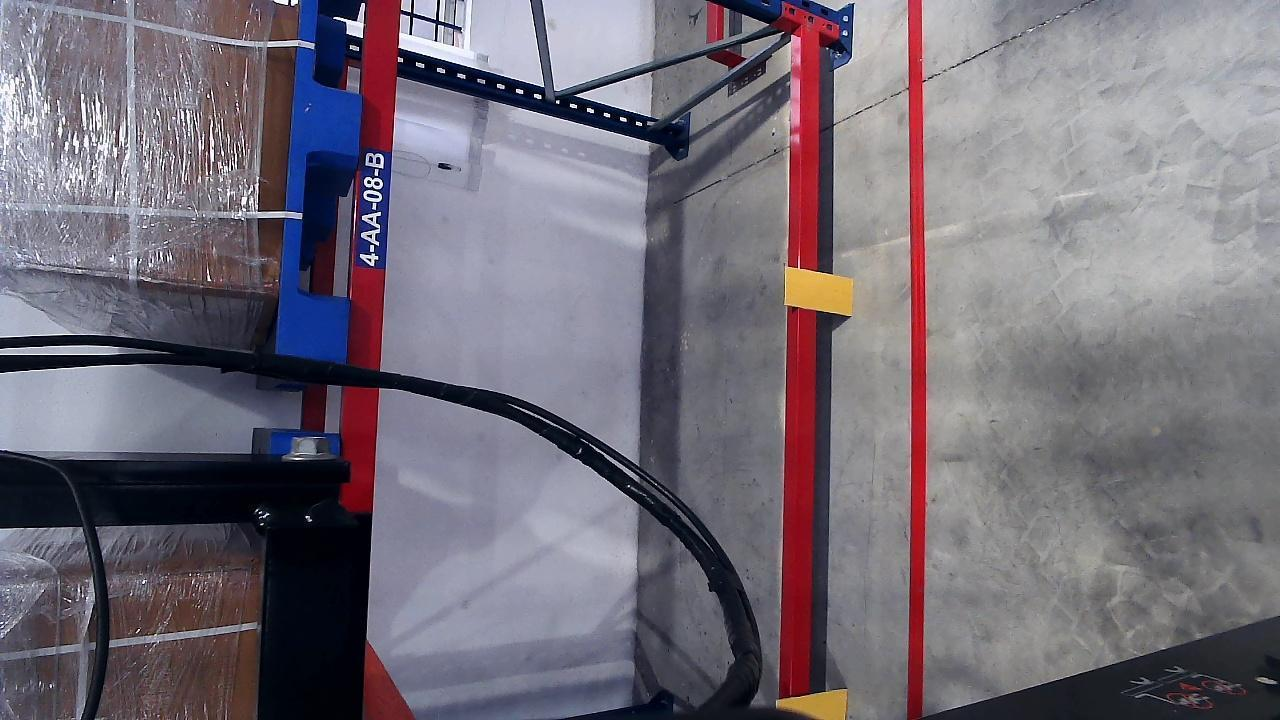red_line: (906, 0, 925, 719)
